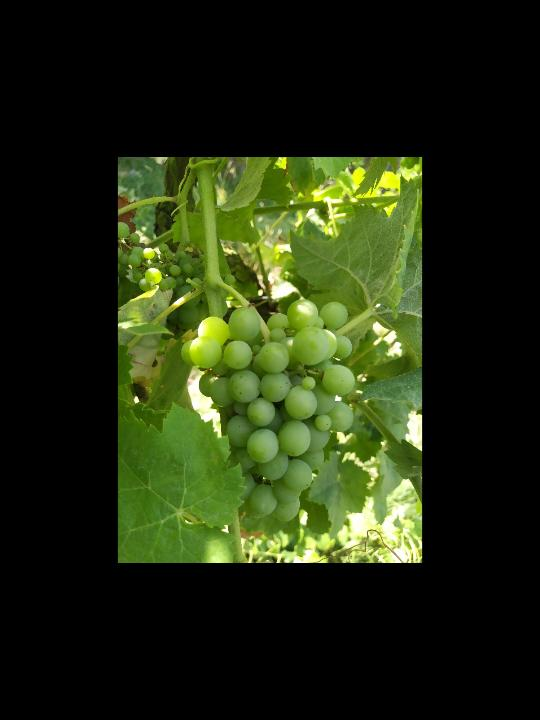grape: (180, 299, 355, 524)
